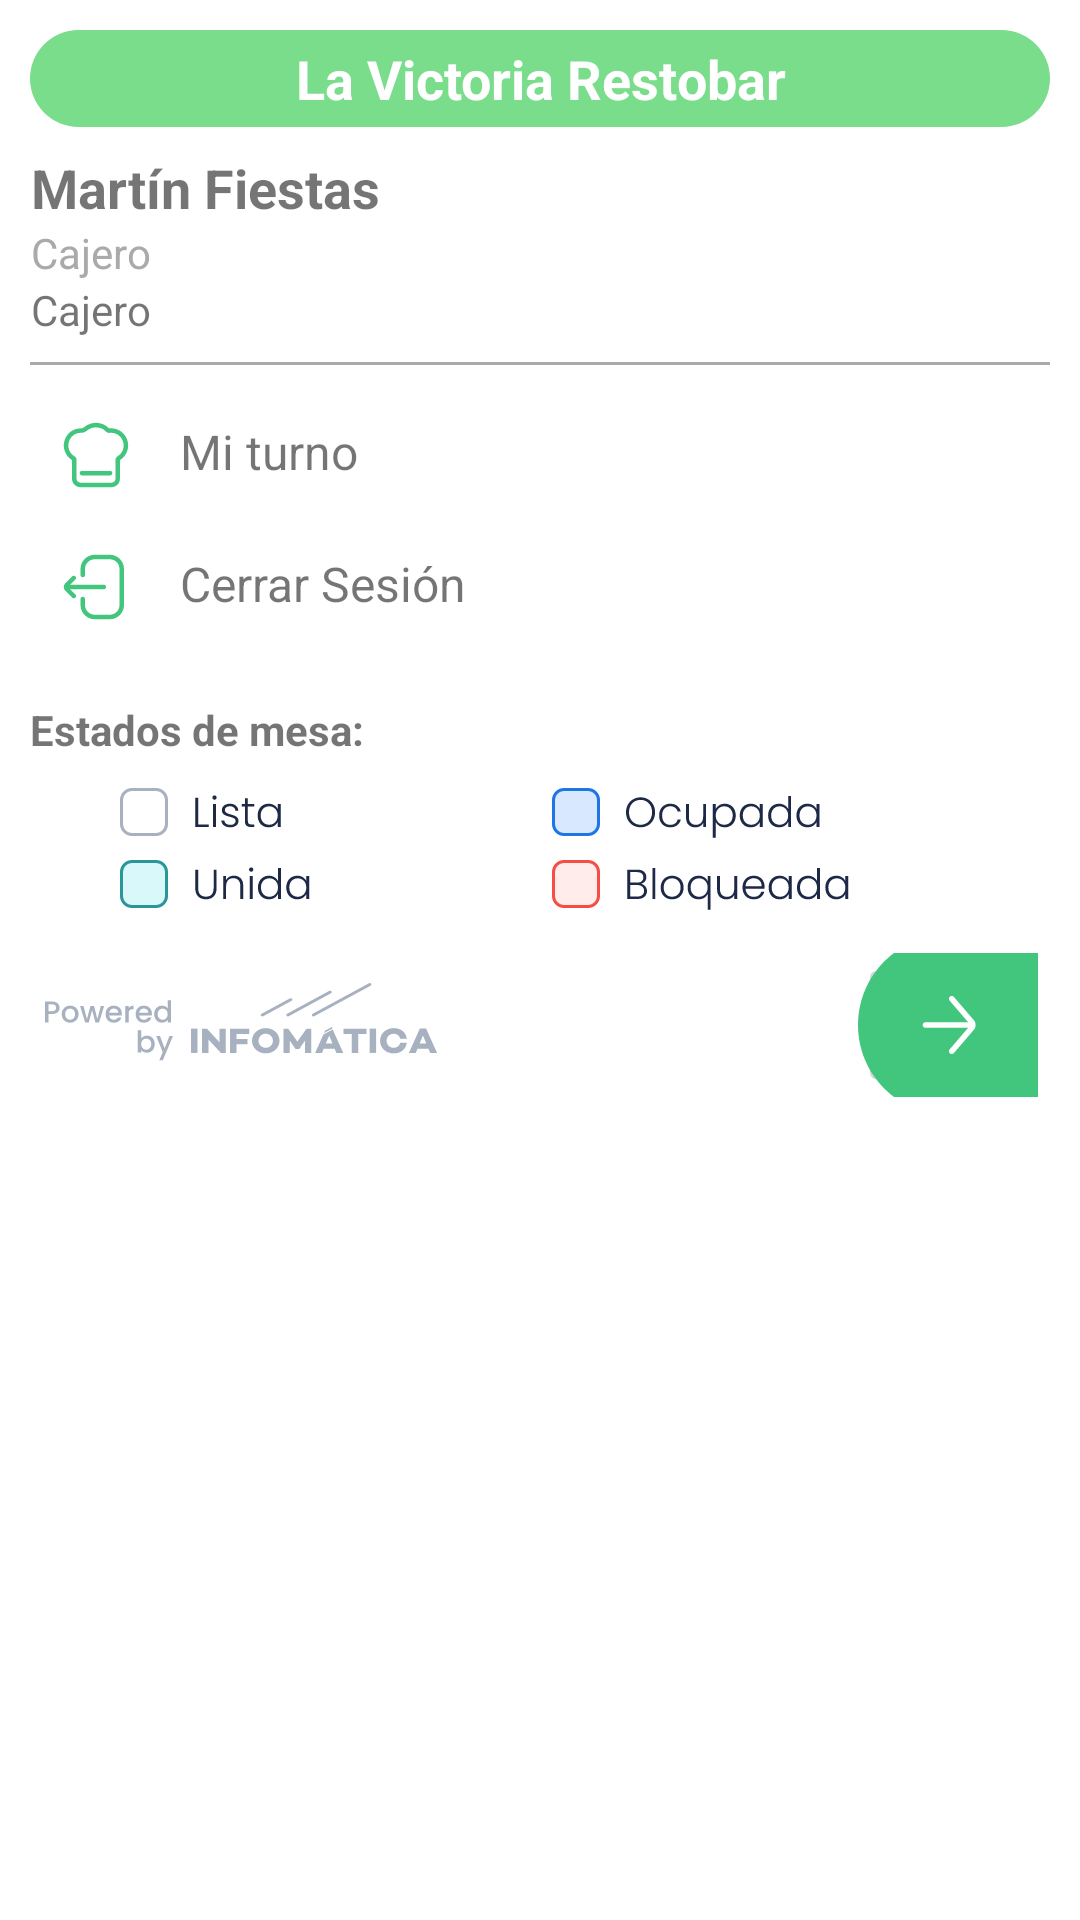

Icons on this 1080x1920 Android screen, each with the point to tap as point (x, y):
salir: point (93, 587)
